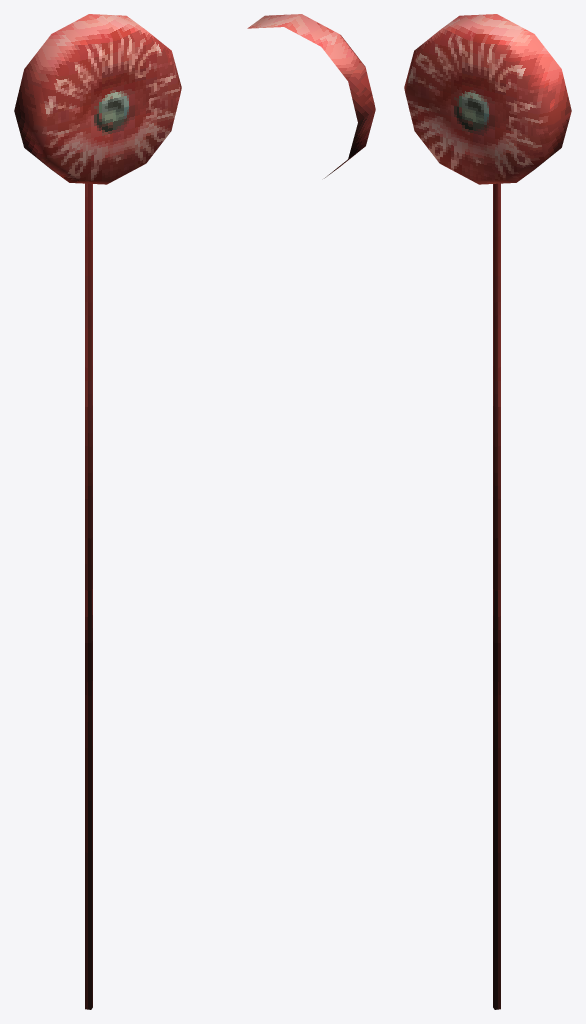
Rendered from Alarm_WallMount.glb.
3 renders of one model, left to right at view 1: azimuth 30°, elevation 25°; view 2: azimuth 150°, elevation 25°; view 3: azimuth 330°, elevation 25°, orthographic.
Visible parts, largest first — view 1: ALARM_WALLMOUNT; view 2: ALARM_WALLMOUNT; view 3: ALARM_WALLMOUNT.
Boxes of the visible parts, <box> form: ALARM_WALLMOUNT: <box>14,14,181,1009</box>; ALARM_WALLMOUNT: <box>247,14,375,178</box>; ALARM_WALLMOUNT: <box>404,14,571,1009</box>.
Size of the model in its own units: 0.374 by 2.38 by 0.104.
Materials: 1 (1 with a texture image).
